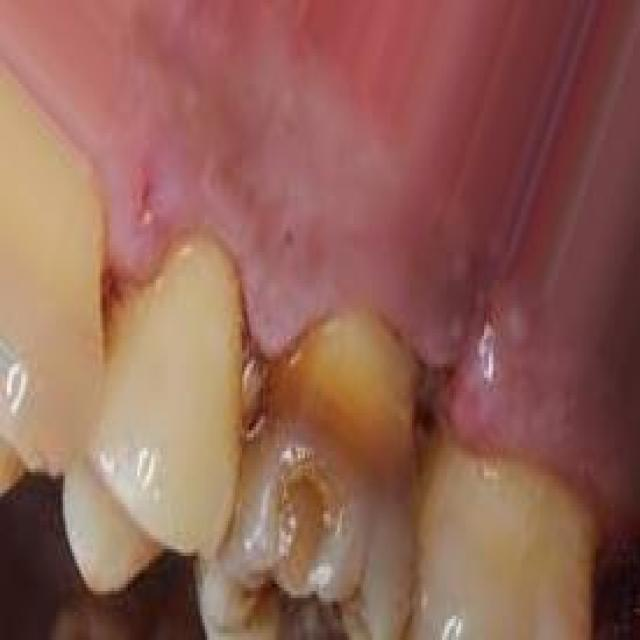caries: (243, 467, 356, 594)
